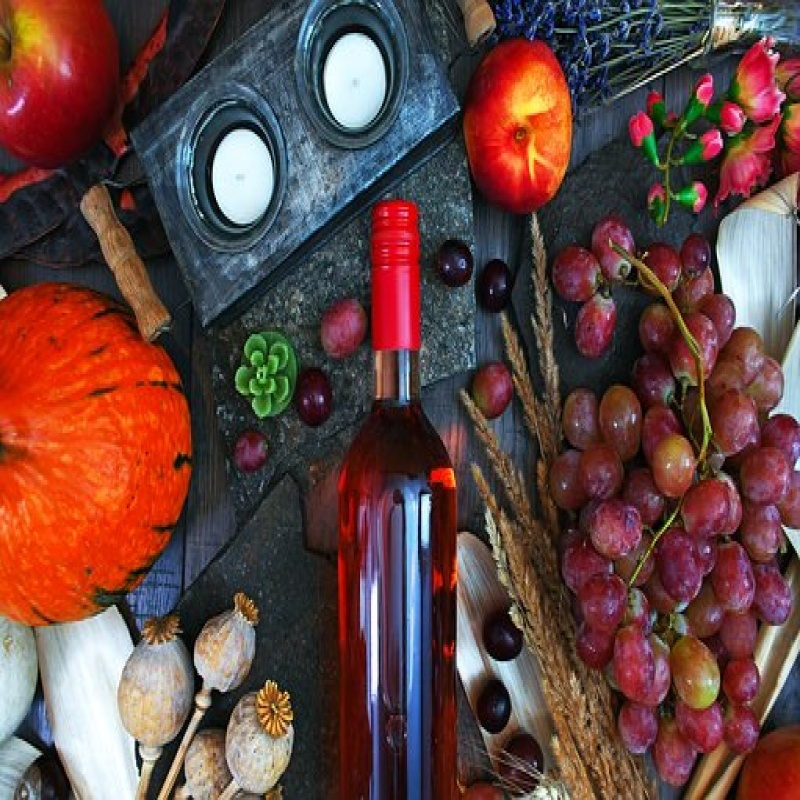wine: (331, 207, 459, 800)
